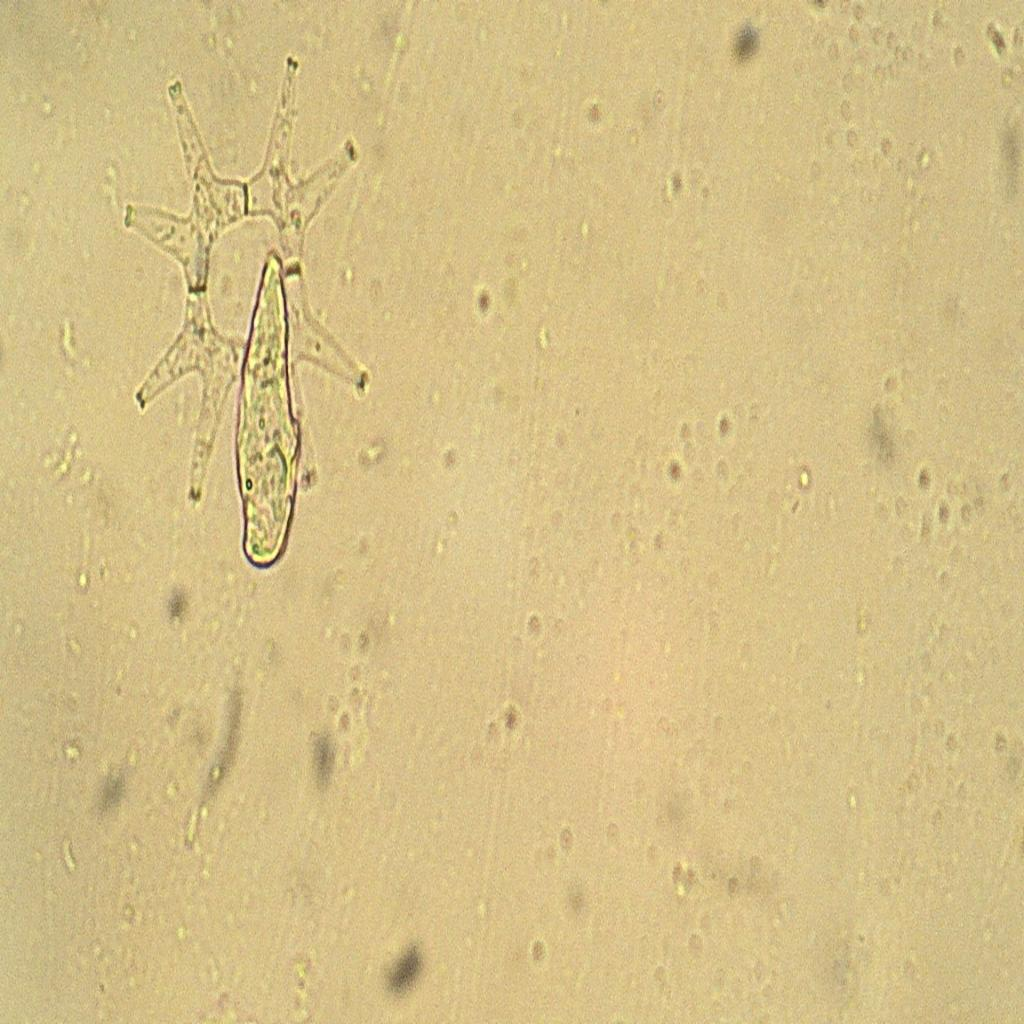Pediastrum_75TH: (114, 42, 380, 552)
